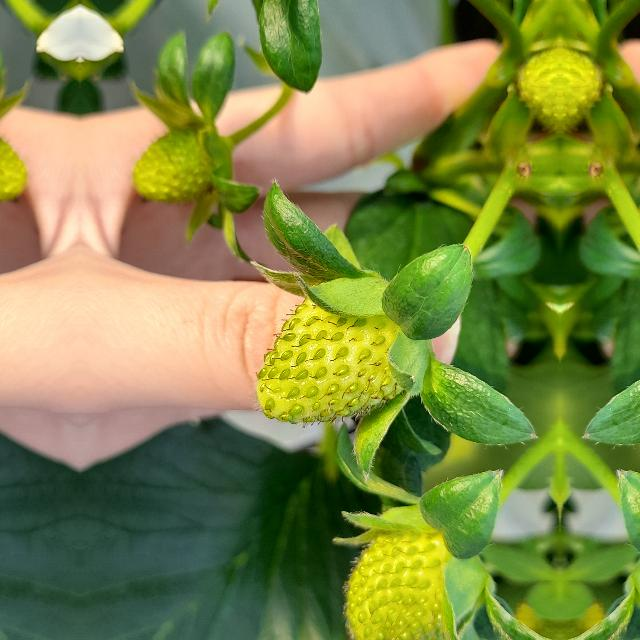Health_25: (251, 296, 405, 428)
